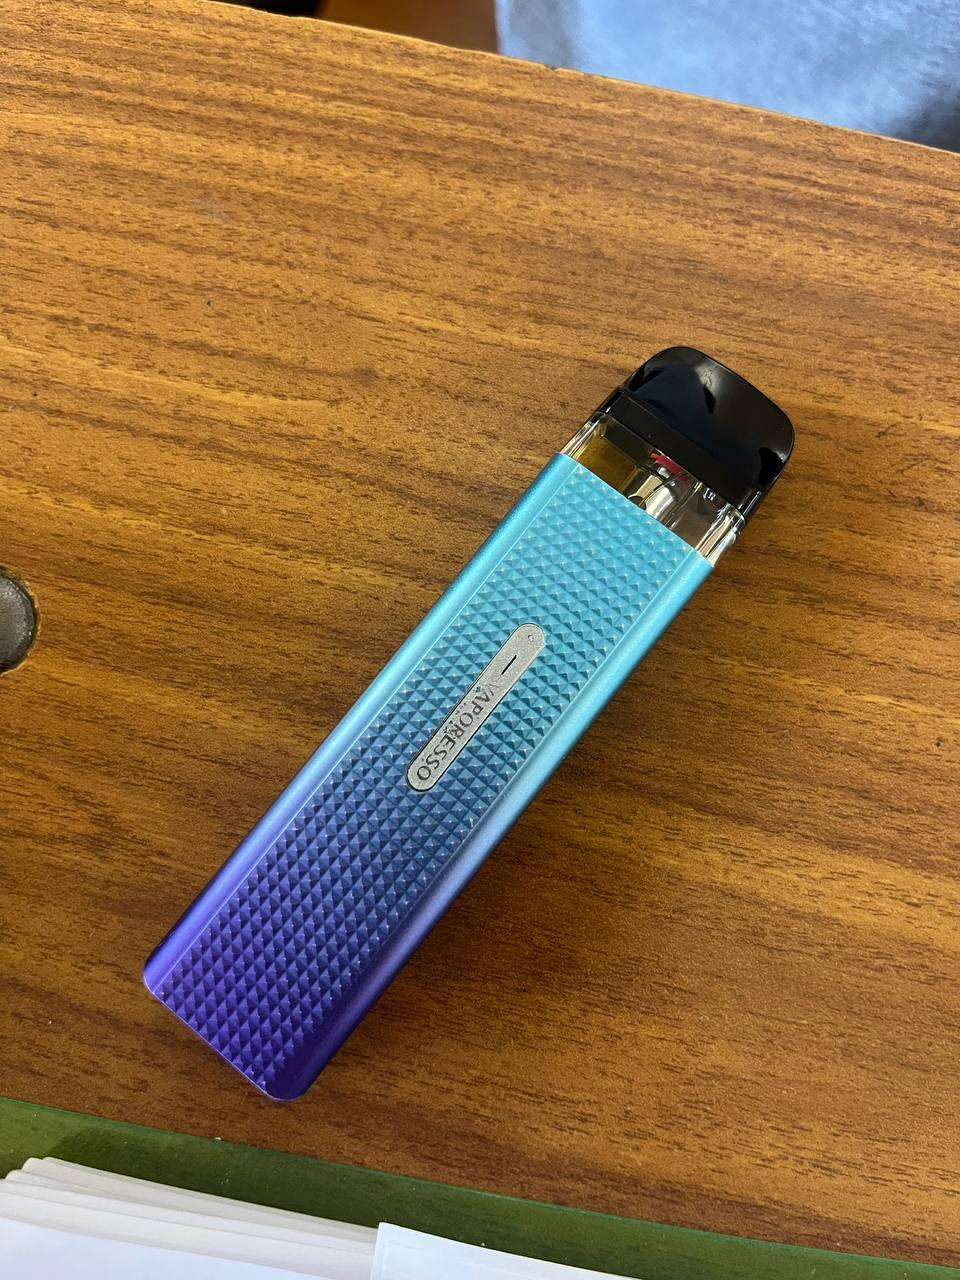Vape: (144, 347, 794, 1099)
